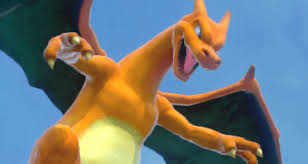charizard: (1, 1, 282, 163)
